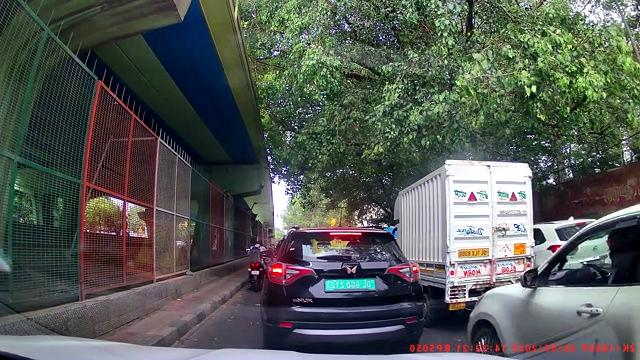motorcycle_with_helmet: (246, 237, 267, 291)
